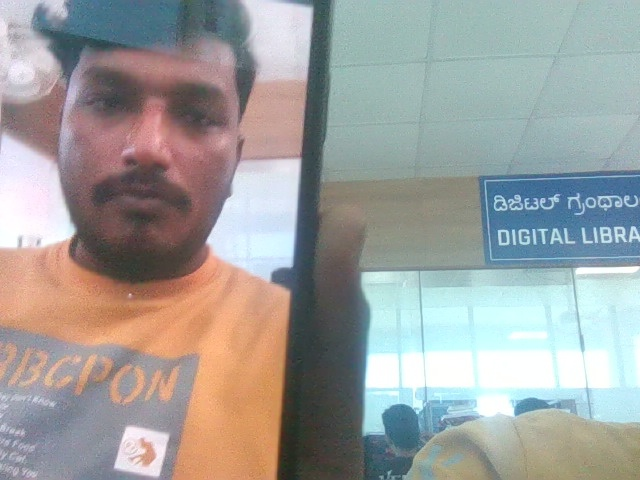fake: (26, 0, 273, 350)
